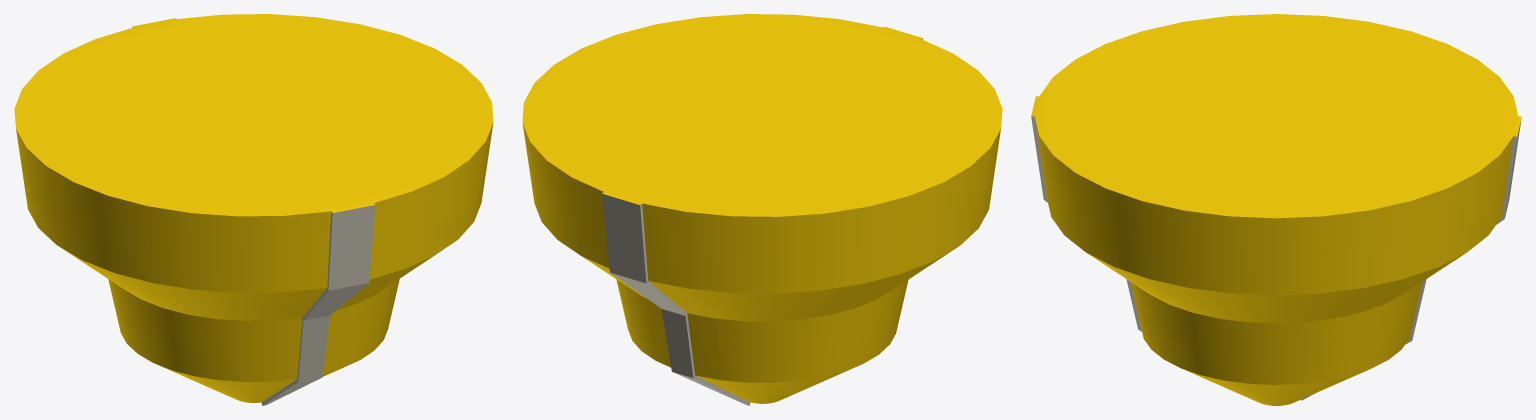
Rendered from tip5.glb.
3 views of the same model, side by side, from view 1: azimuth 30°, elevation 25°; view 2: azimuth 150°, elevation 25°; view 3: azimuth 270°, elevation 25° (orthographic).
Parts seen in each view (by area): view 1: tip; view 2: tip; view 3: tip.
Boxes of the visible parts, left/top/right/bottom form: tip: left=14, top=14, right=493, bottom=405; tip: left=522, top=14, right=1002, bottom=405; tip: left=1031, top=14, right=1521, bottom=405.
Bounding box in the file's own units: 0.1445 × 0.0932 × 0.1467.
